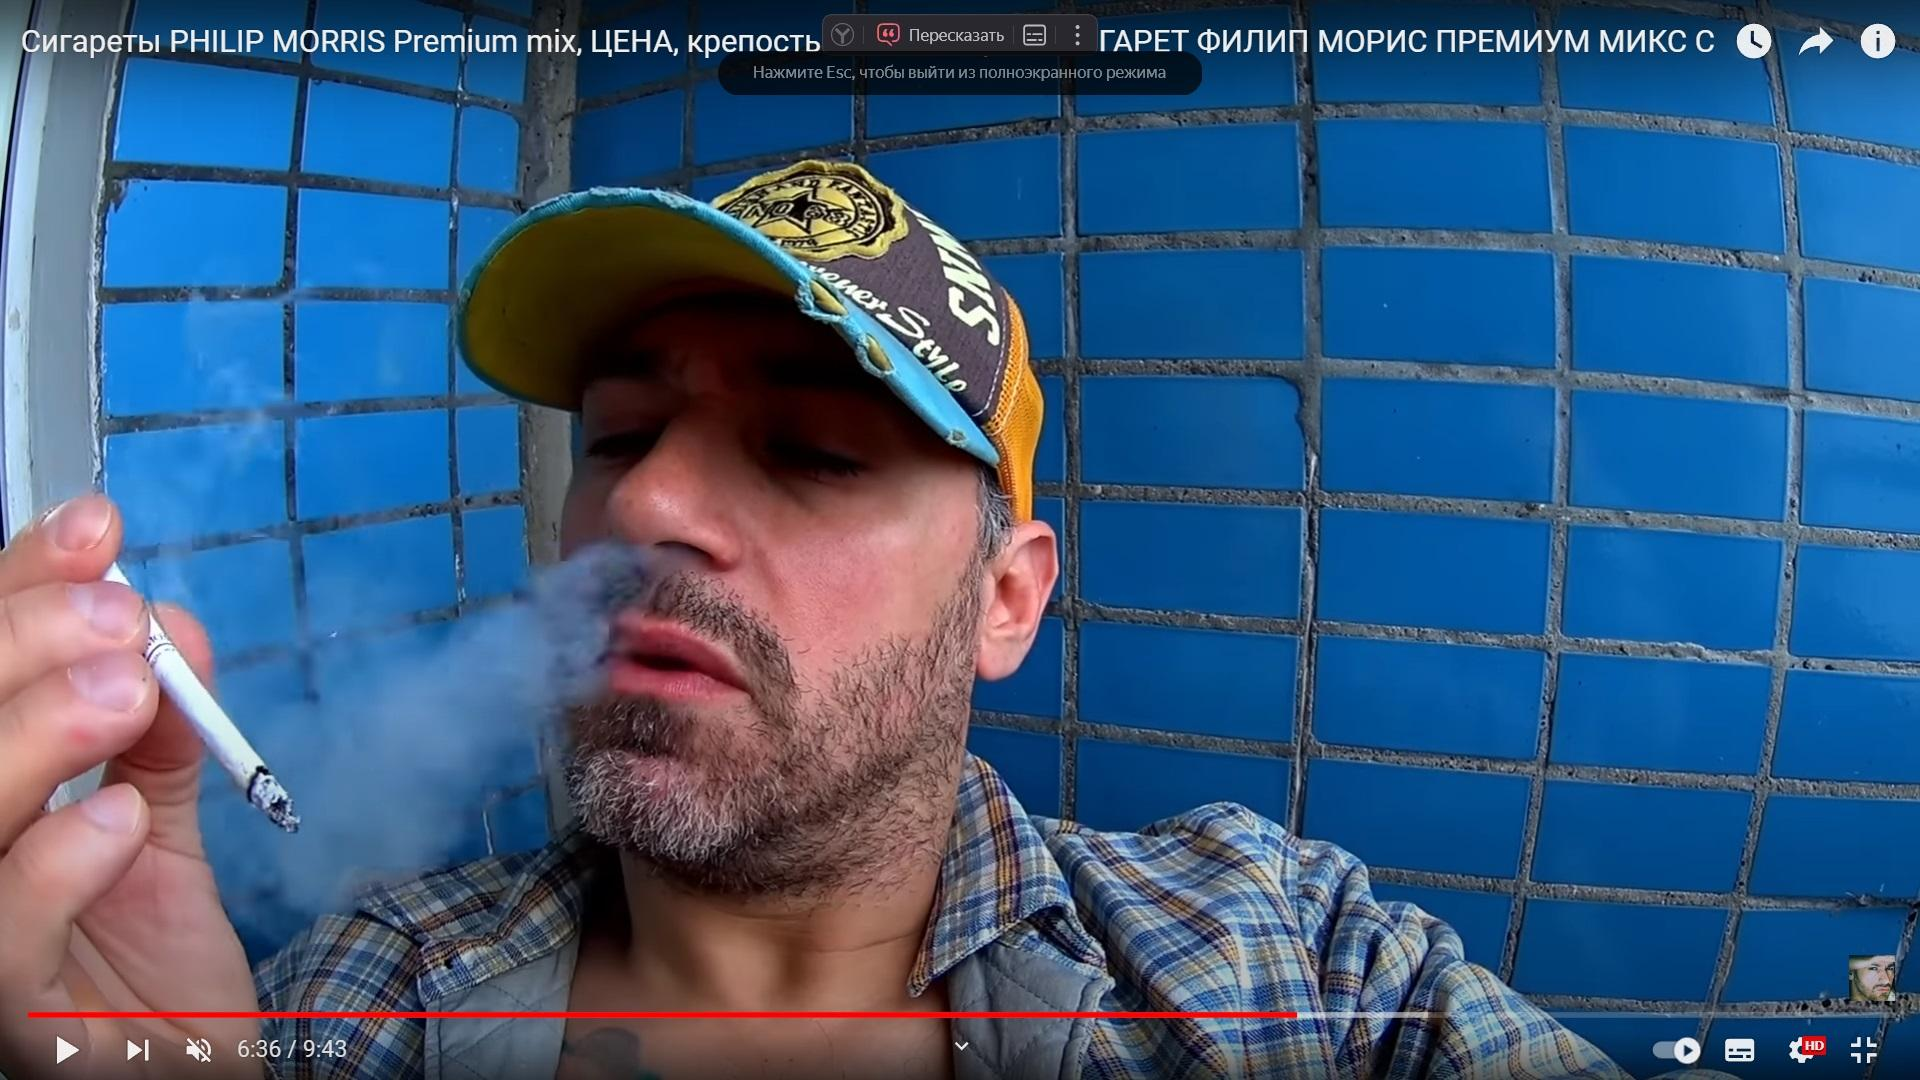cigarette: (78, 560, 303, 833)
